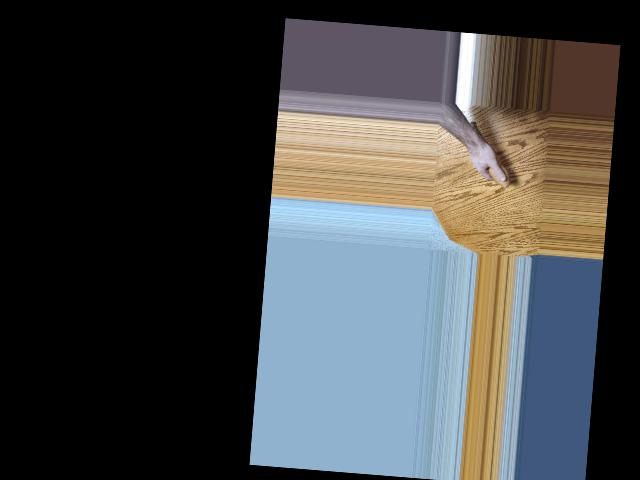sweet_potato: (464, 119, 514, 187)
